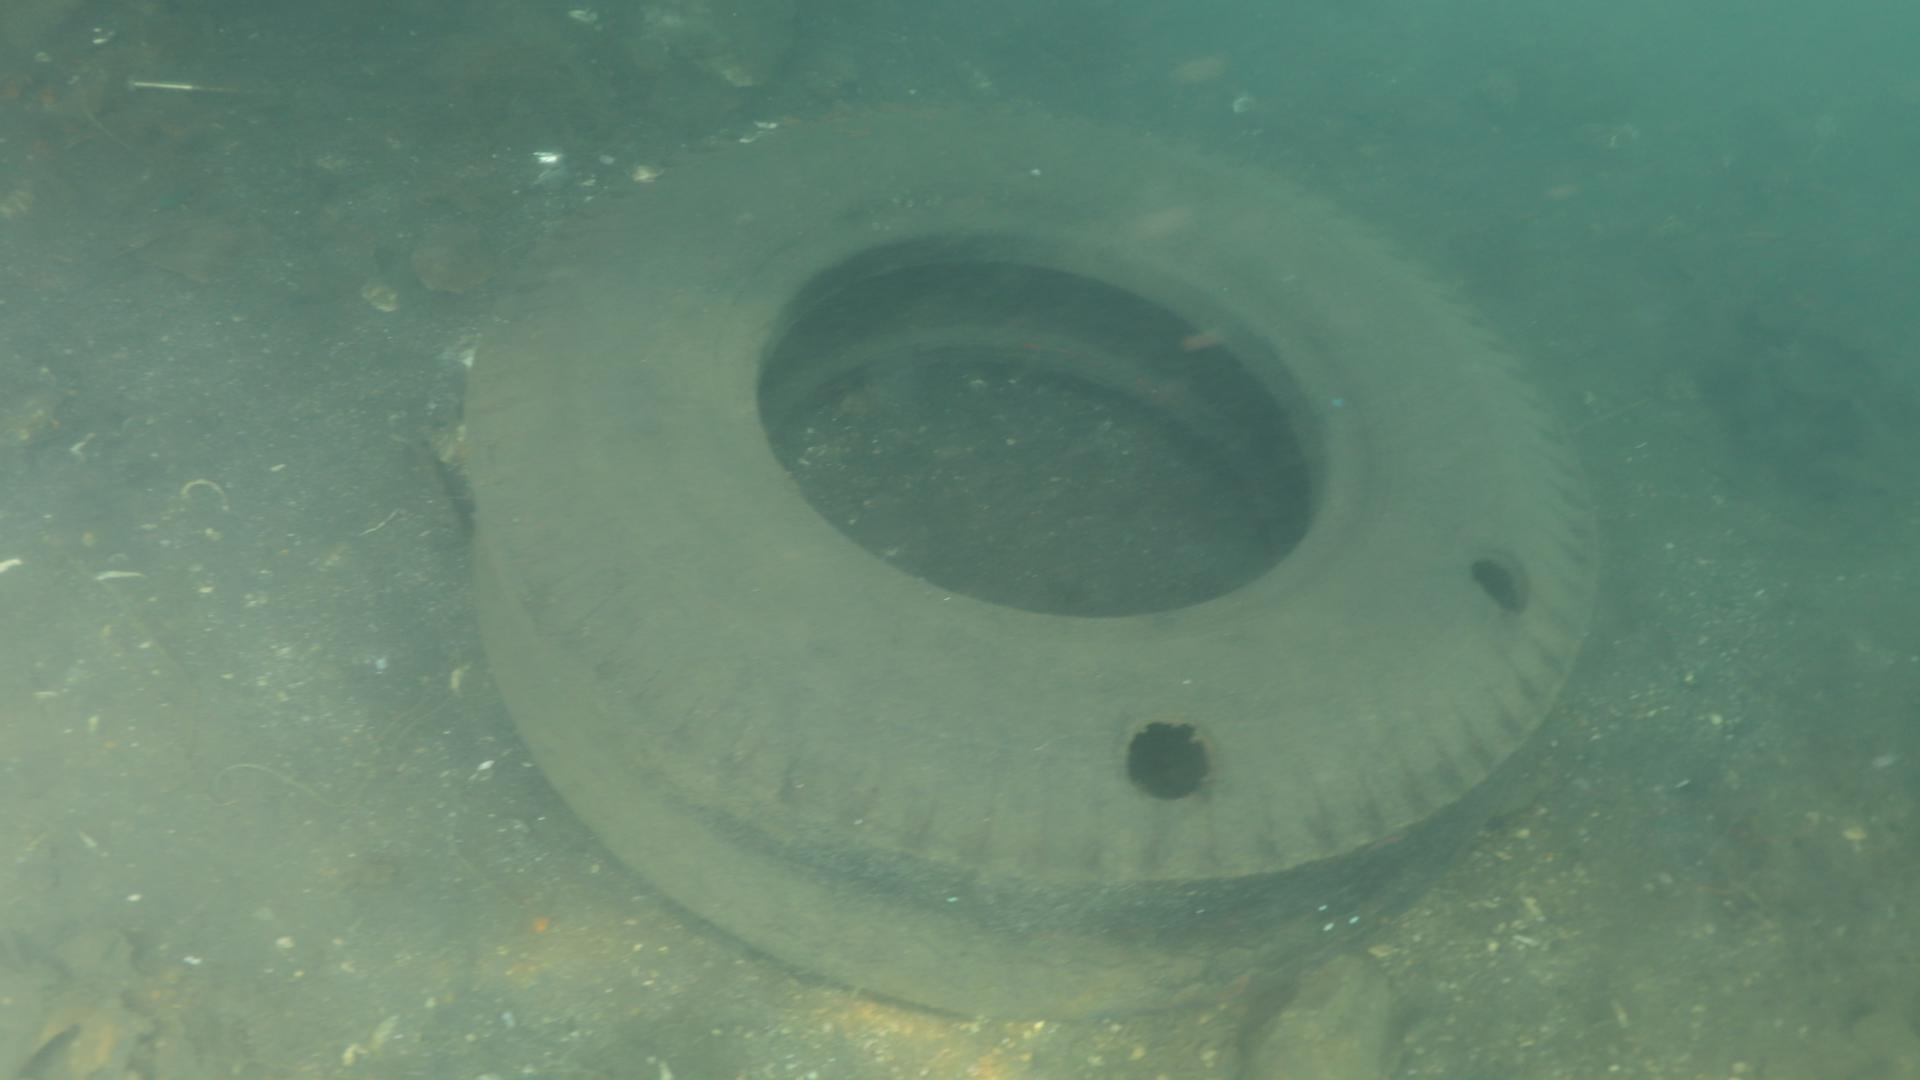tire: (462, 99, 1598, 1011)
